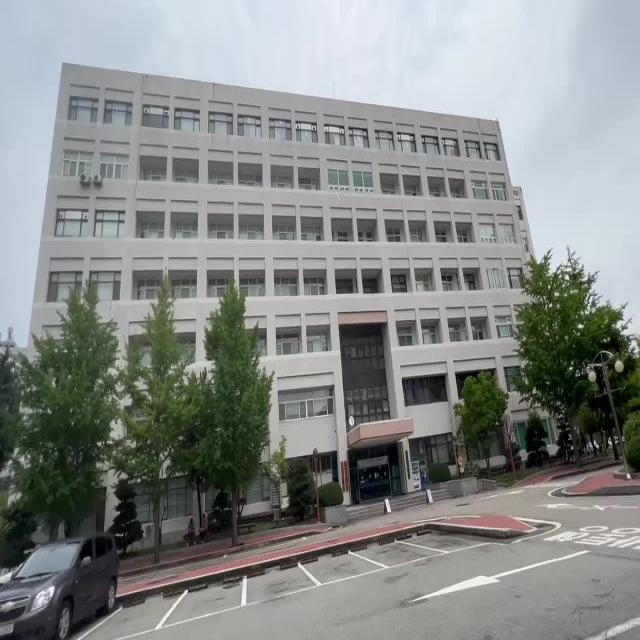building: (279, 106, 449, 512)
